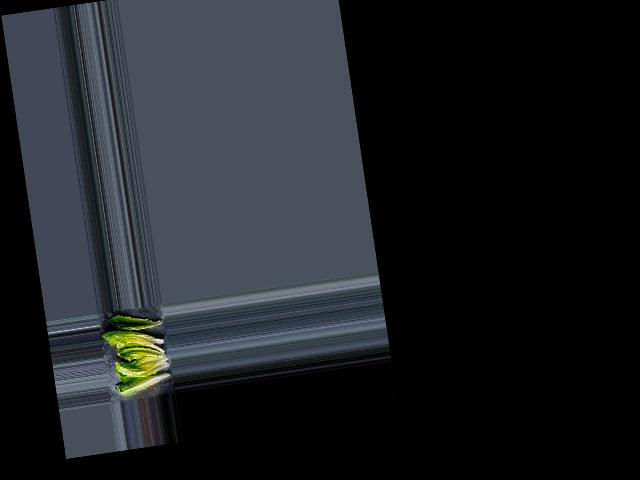lettuce: (110, 310, 165, 334)
